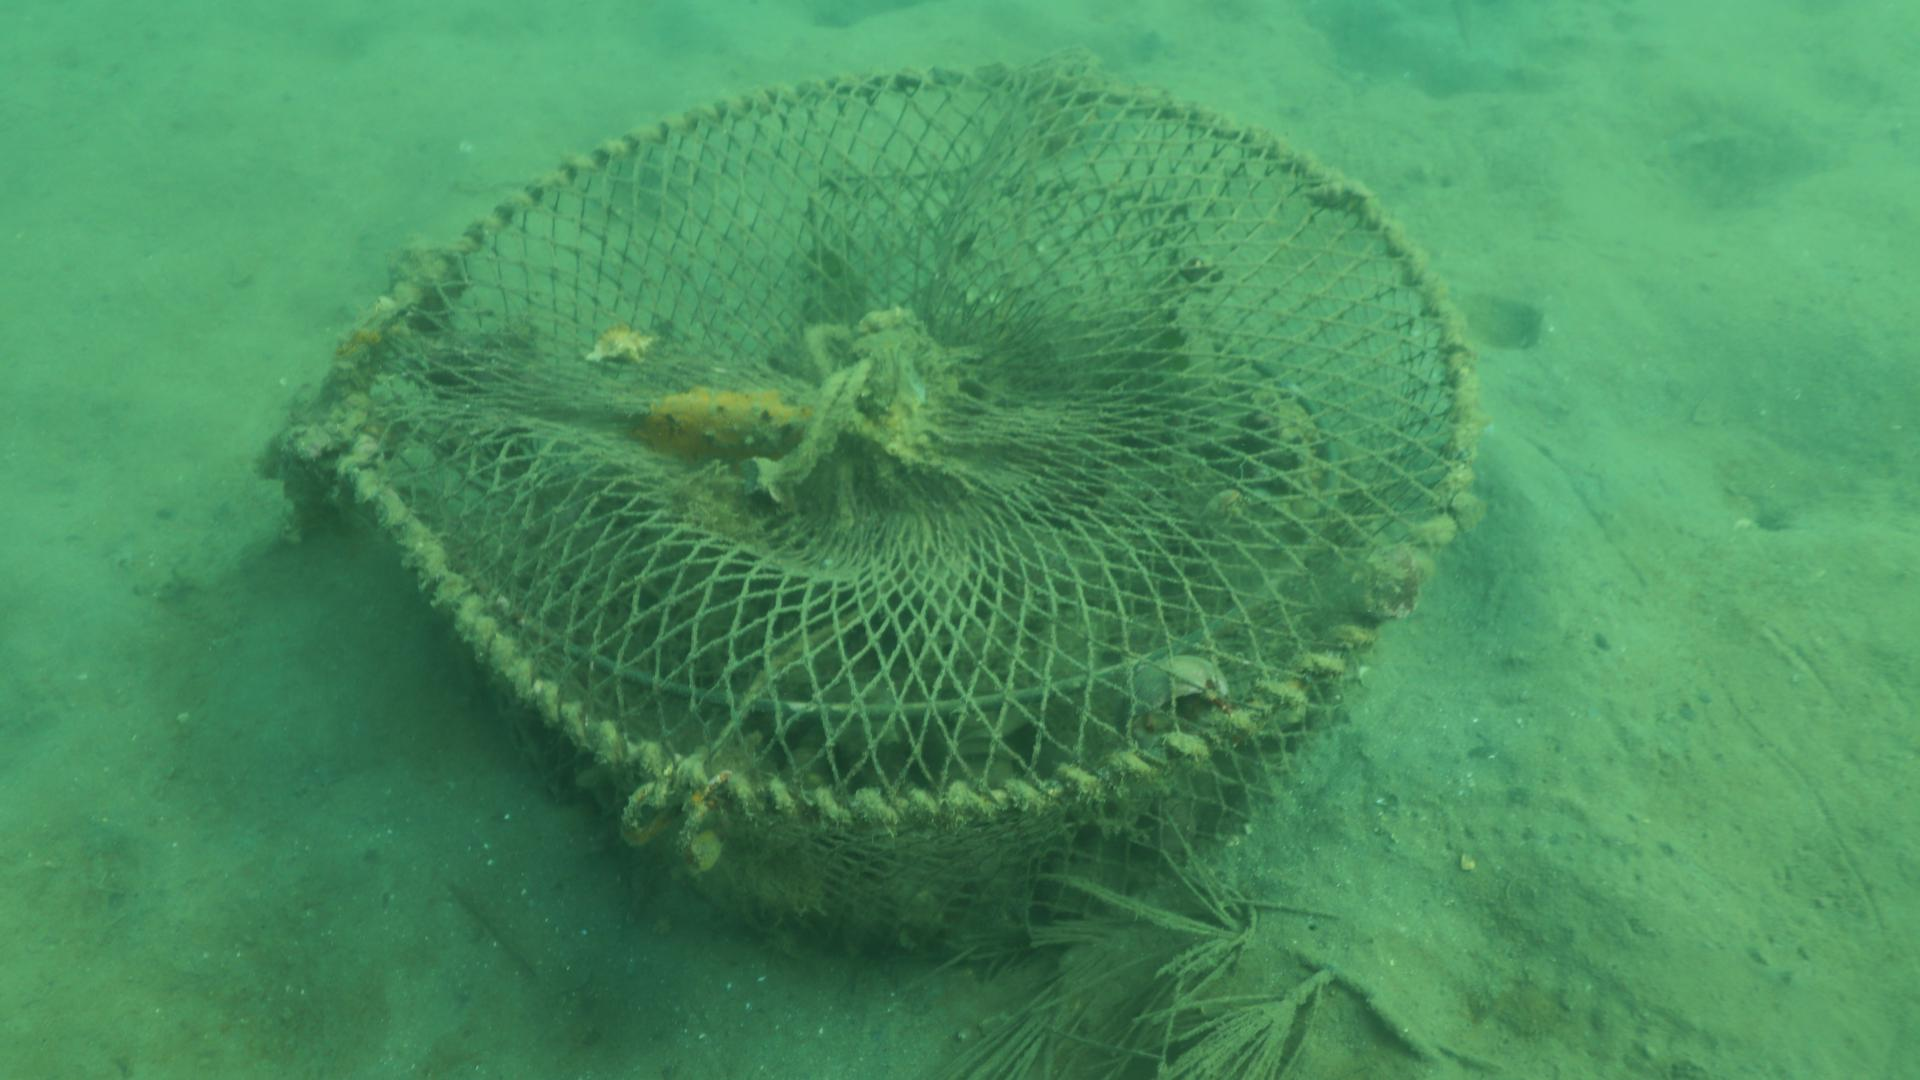circular fish trap: (297, 59, 1478, 961)
